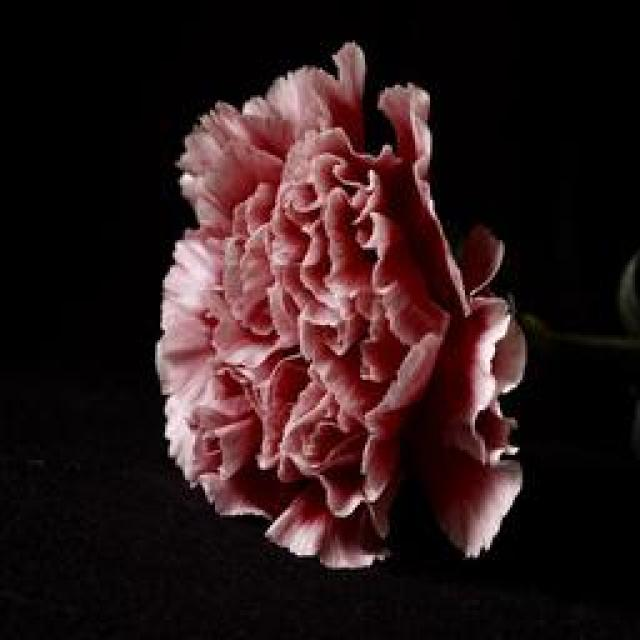carnation: (146, 29, 548, 543)
